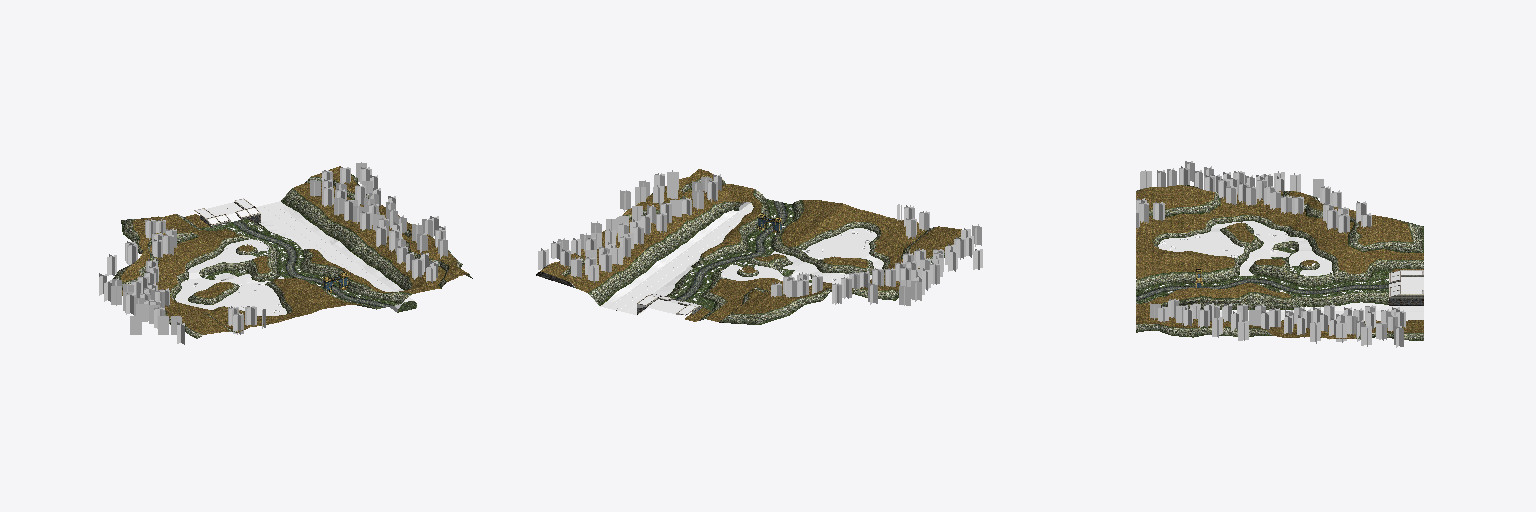
The picture shows the model from 3 angles: view 1: azimuth 30°, elevation 25°; view 2: azimuth 150°, elevation 25°; view 3: azimuth 270°, elevation 25°; orthographic projection.
Visible parts, largest first — view 1: Object.034, Object.028, Object.027, Object.031, Object.037, Object.039, Object.036; view 2: Object.034, Object.028, Object.027, Object.031, Object.037, Object.039, Object.036; view 3: Object.028, Object.034, Object.027, Object.031, Object.039, Object.036.
Boxes of the visible parts, x1=… form: Object.034: x1=99, y1=162, x2=447, y2=344; Object.028: x1=120, y1=166, x2=468, y2=334; Object.027: x1=113, y1=174, x2=472, y2=338; Object.031: x1=175, y1=201, x2=403, y2=315; Object.037: x1=256, y1=203, x2=407, y2=310; Object.039: x1=201, y1=219, x2=398, y2=309; Object.036: x1=231, y1=220, x2=393, y2=307; Object.034: x1=538, y1=170, x2=982, y2=305; Object.028: x1=541, y1=169, x2=961, y2=321; Object.027: x1=536, y1=179, x2=960, y2=324; Object.031: x1=600, y1=210, x2=883, y2=315; Object.037: x1=608, y1=203, x2=753, y2=312; Object.039: x1=670, y1=199, x2=811, y2=310; Object.036: x1=674, y1=201, x2=787, y2=301; Object.028: x1=1136, y1=185, x2=1423, y2=338; Object.034: x1=1136, y1=161, x2=1405, y2=347; Object.027: x1=1136, y1=185, x2=1423, y2=340; Object.031: x1=1158, y1=221, x2=1423, y2=310; Object.039: x1=1136, y1=248, x2=1392, y2=302; Object.036: x1=1136, y1=279, x2=1388, y2=300.
Size of the model in its own units: 272 by 32.86 by 200.
Materials: 24 (7 with a texture image).